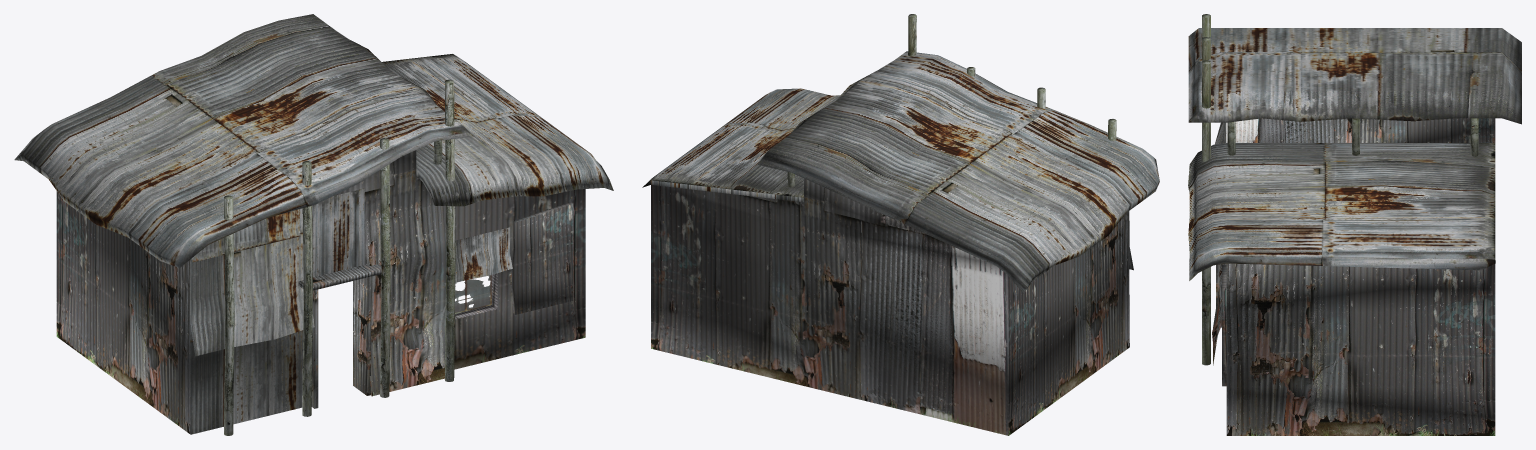
The model's file is shanty4.fbx.
3 renders of one model, left to right at view 1: azimuth 30°, elevation 25°; view 2: azimuth 150°, elevation 25°; view 3: azimuth 270°, elevation 25°, orthographic. The views are drawn at different scales.
Visible parts, largest first — view 1: U3DMesh; view 2: U3DMesh; view 3: U3DMesh.
Boxes of the visible parts, bbox=[...] form: U3DMesh: bbox=[14, 14, 613, 435]; U3DMesh: bbox=[642, 14, 1159, 435]; U3DMesh: bbox=[1188, 14, 1521, 435].
Bounding box in the file's own units: 300 × 192 × 193.
